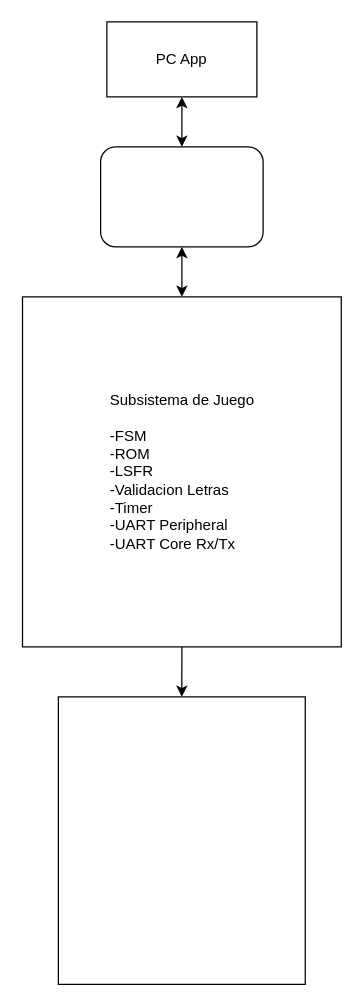
The diagram is 363 pixels wide and 1006 high, and some of its shapes have lost their labels. The shapes that lost their labels are listed below. From the top down, each one's centre as x and y in pixels, then its label:
At pixel 181 196: "Enlace Serial Físico UART".
At pixel 181 840: "Subsistema Periféricos -Displays 7 segmentos -Sonido -LCD -Botones".
